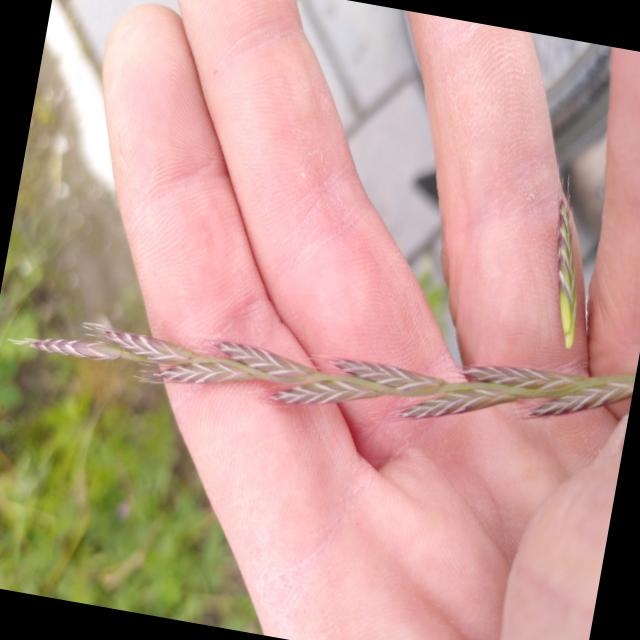Lolium: (9, 268, 635, 471)
